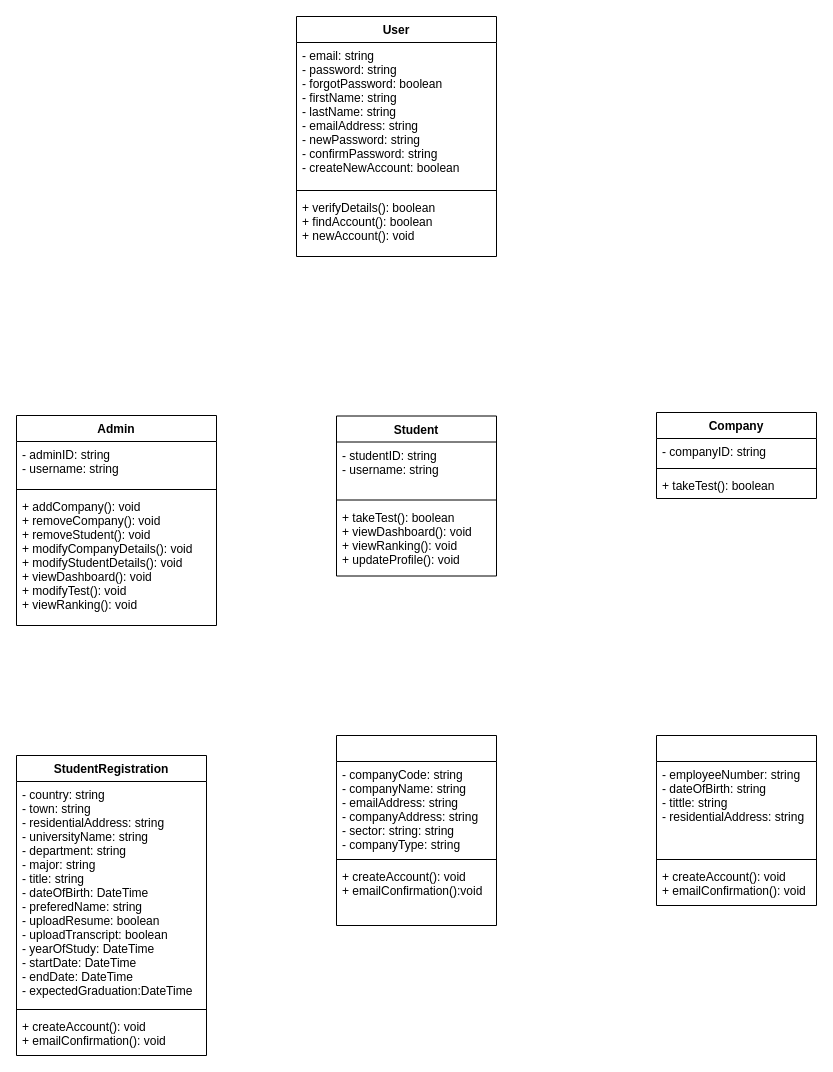
Image size: 833x1072. Some labels were removed from this diagram. Each missing label, with the box of its shape:
AdminRegistration: (656, 734, 816, 906)
CompanyRegistration: (336, 734, 496, 926)
